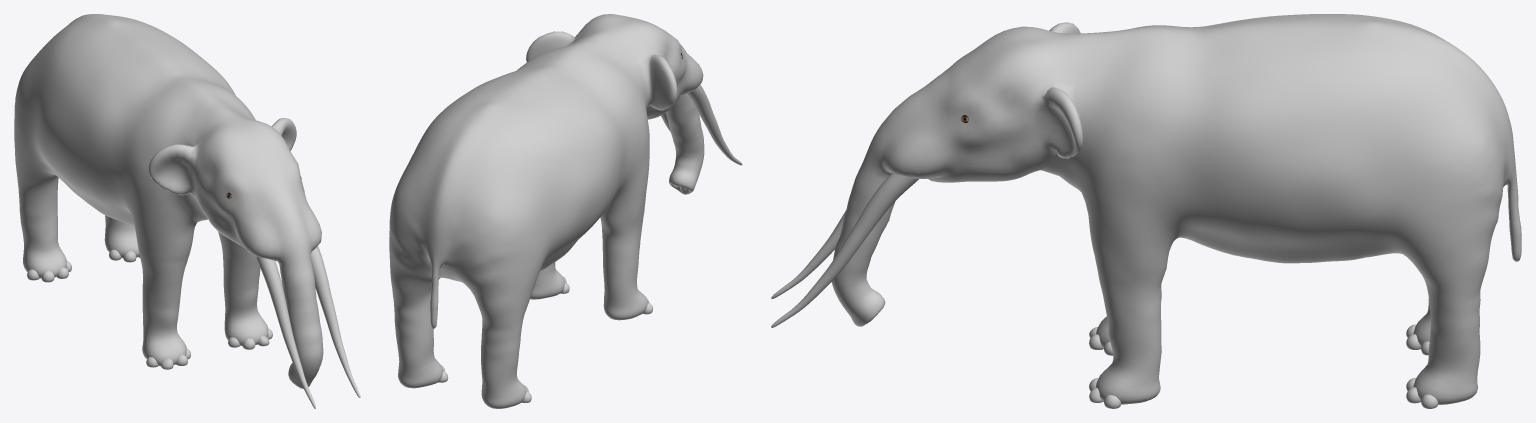
Rendered from mastodonte-AR.fbx.
The picture shows the model from 3 angles, left to right: view 1: azimuth 30°, elevation 25°; view 2: azimuth 150°, elevation 25°; view 3: azimuth 270°, elevation 25°; orthographic projection. The views are drawn at different scales.
Visible parts, largest first — view 1: mastodonte--low; view 2: mastodonte--low; view 3: mastodonte--low.
Boxes of the visible parts, left/top/right/bottom form: mastodonte--low: left=14, top=14, right=360, bottom=408; mastodonte--low: left=389, top=14, right=742, bottom=408; mastodonte--low: left=771, top=14, right=1521, bottom=408.
Bounding box in the file's own units: 186 × 288 × 564.
